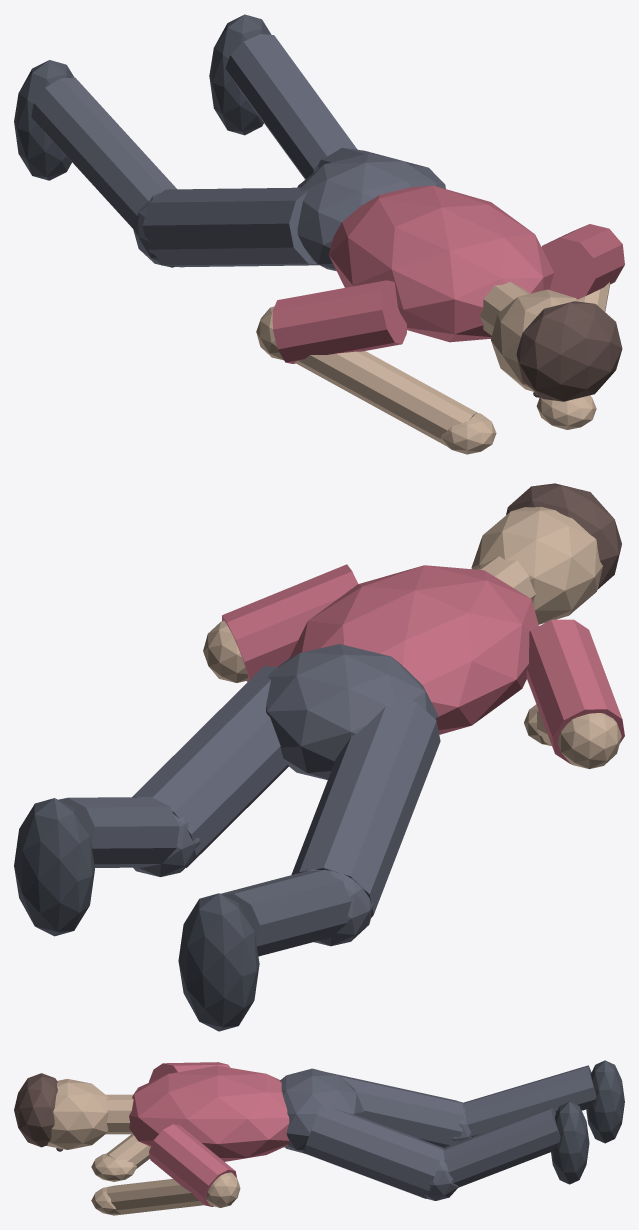
The picture shows the model from 3 angles, top to bottom: view 1: azimuth 30°, elevation 25°; view 2: azimuth 150°, elevation 25°; view 3: azimuth 270°, elevation 25°; orthographic projection. The views are drawn at different scales.
Parts seen in each view (by area): view 1: world; view 2: world; view 3: world.
Boxes of the visible parts, left/top/right/bottom form: world: left=14, top=14, right=624, bottom=454; world: left=14, top=483, right=624, bottom=1031; world: left=14, top=1060, right=624, bottom=1215.
Size of the model in its own units: 0.93 by 0.4362 by 2.
